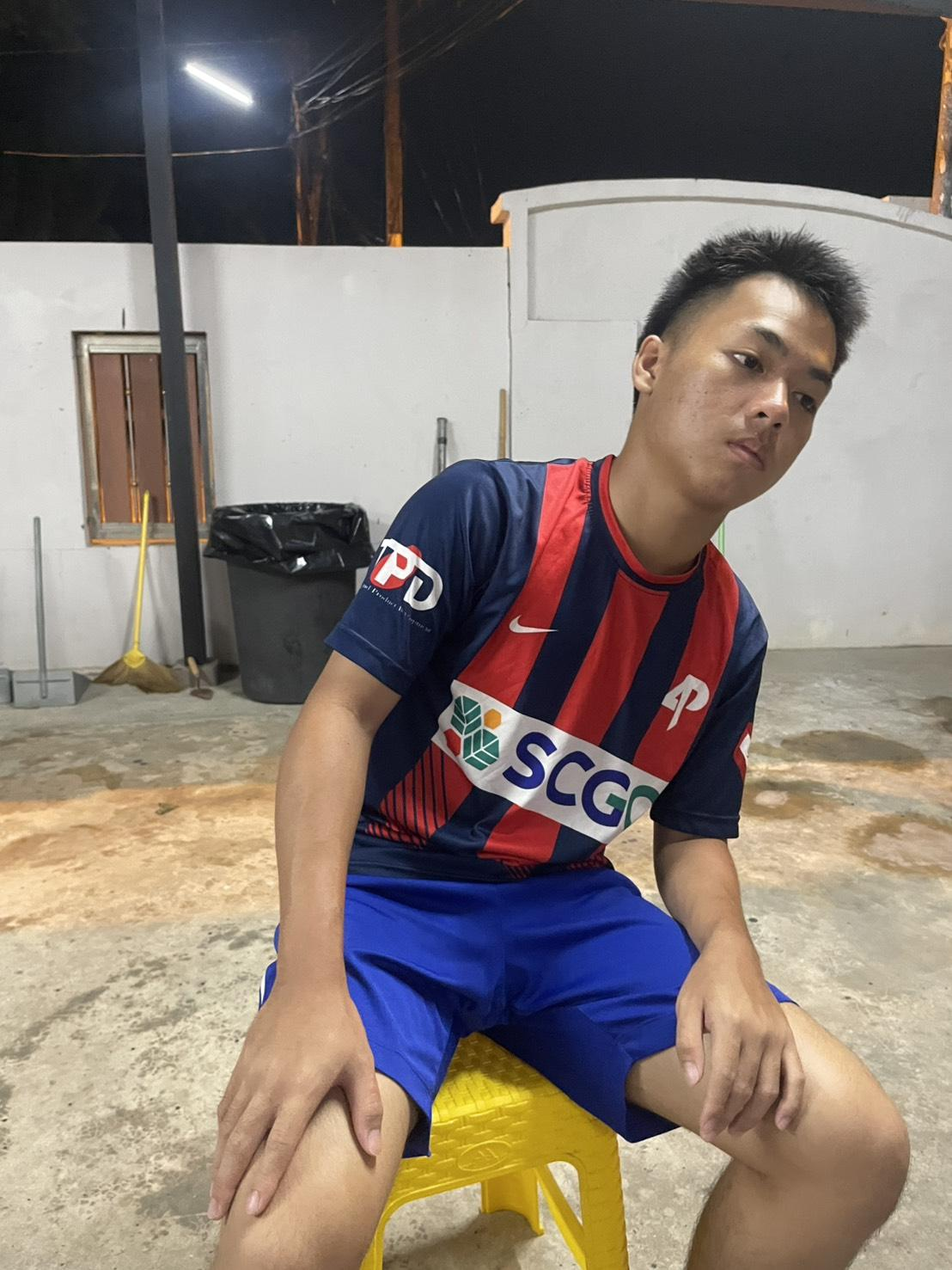BadPosture: (278, 228, 865, 886)
